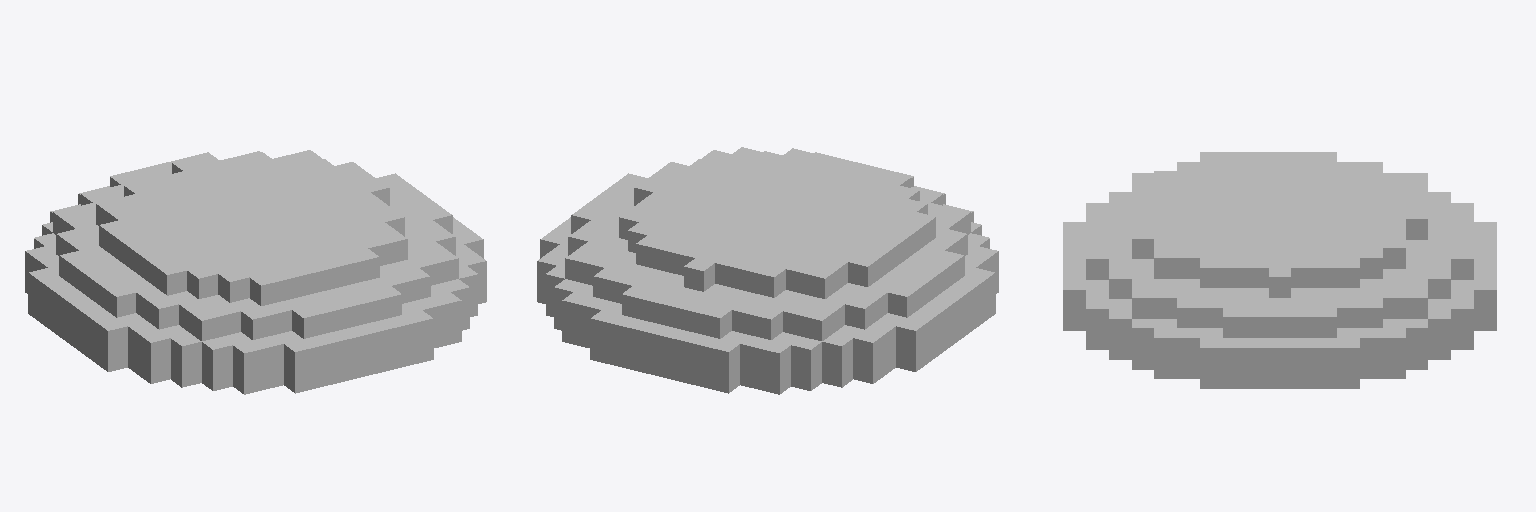
Rendered from cookie.obj.
3 renders of one model, left to right at view 1: azimuth 30°, elevation 25°; view 2: azimuth 150°, elevation 25°; view 3: azimuth 270°, elevation 25°, orthographic.
Parts seen in each view (by area): view 1: object 1; view 2: object 1; view 3: object 1.
Boxes of the visible parts, box(x1,y1,x2,y2) form: object 1: box(25, 150, 486, 394); object 1: box(537, 147, 998, 394); object 1: box(1063, 152, 1496, 388).
Size of the model in its own units: 1.9 by 0.4 by 1.9.